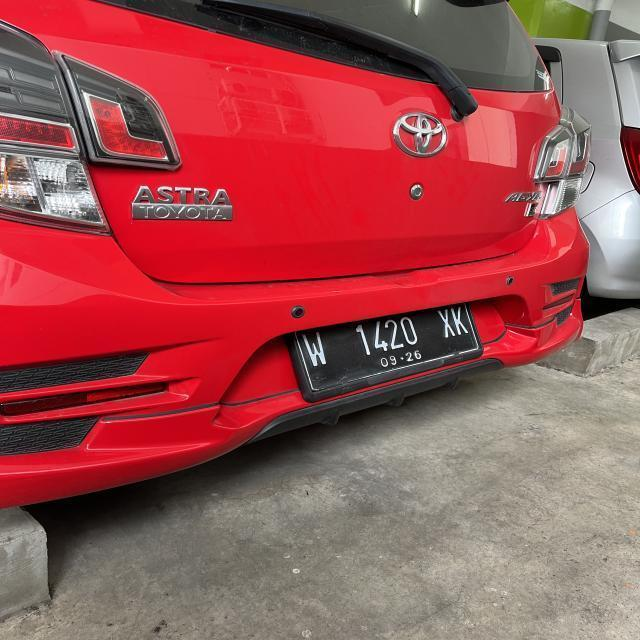0: (400, 318, 420, 346)
1: (354, 324, 372, 358)
2: (387, 314, 403, 352)
4: (374, 320, 387, 354)
K: (452, 308, 469, 338)
W: (301, 332, 330, 369)
X: (436, 306, 454, 341)
